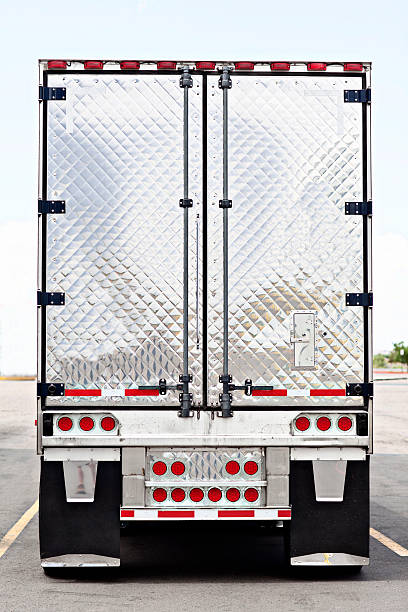Semi: (34, 58, 372, 576)
